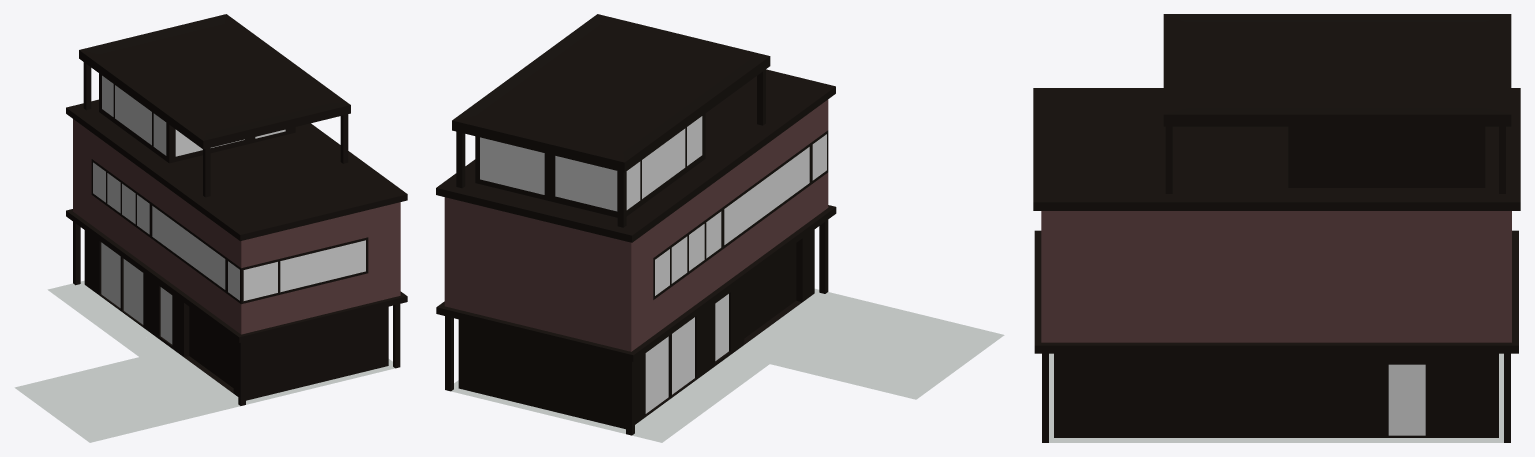
File: rumah premium.fbx
The picture shows the model from 3 angles, left to right: view 1: azimuth 30°, elevation 25°; view 2: azimuth 150°, elevation 25°; view 3: azimuth 270°, elevation 25°; orthographic projection. The views are drawn at different scales.
Parts seen in each view (by area): view 1: Cube.051; view 2: Cube.051; view 3: Cube.051.
Boxes of the visible parts, left/top/right/bottom form: Cube.051: left=14, top=14, right=407, bottom=442; Cube.051: left=436, top=14, right=1004, bottom=442; Cube.051: left=1033, top=14, right=1520, bottom=442.
Bounding box in the file's own units: 5362 × 3772 × 5137.
